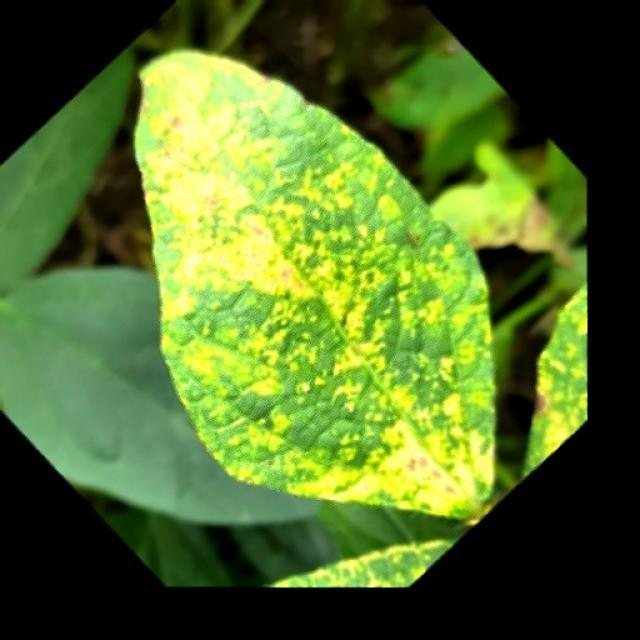leaves: (120, 19, 514, 553)
